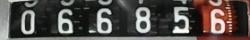digits: (171, 5, 189, 33), (134, 6, 150, 33), (96, 7, 112, 33), (58, 8, 74, 33), (210, 8, 225, 33), (20, 10, 35, 34)
